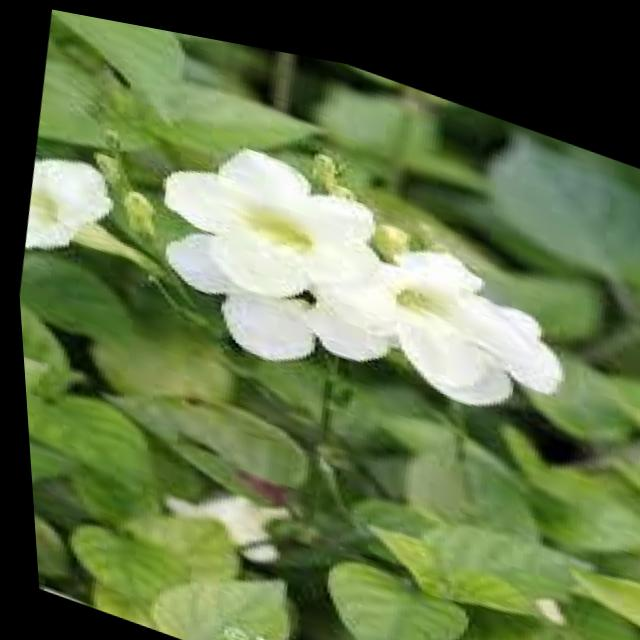Flower: (144, 107, 585, 423)
